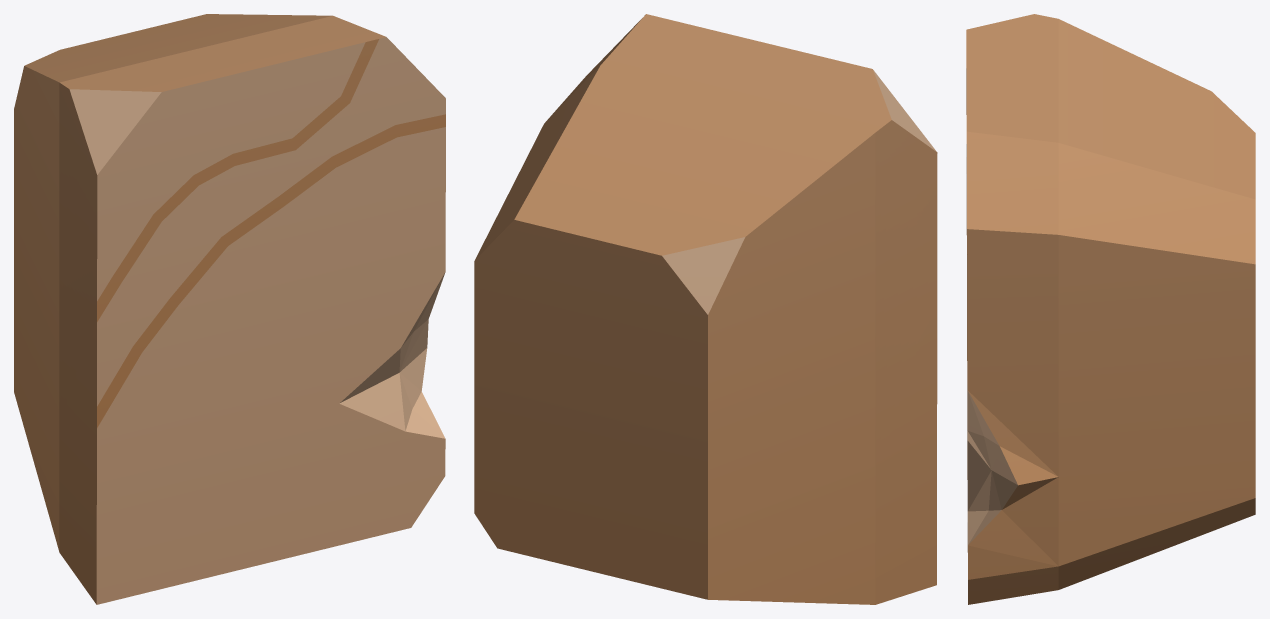
Rendered from ancient-stone-10.glb.
3 renders of one model, left to right at view 1: azimuth 30°, elevation 25°; view 2: azimuth 150°, elevation 25°; view 3: azimuth 270°, elevation 25°, orthographic. The views are drawn at different scales.
Visible parts, largest first — view 1: ancient stone 10; view 2: ancient stone 10; view 3: ancient stone 10.
Boxes of the visible parts, <box> form: ancient stone 10: <box>14,14,445,604</box>; ancient stone 10: <box>474,14,937,604</box>; ancient stone 10: <box>966,14,1255,604</box>.
Bounding box in the file's own units: 2.89 × 3.84 × 2.18.
Materials: 1 (1 with a texture image).
